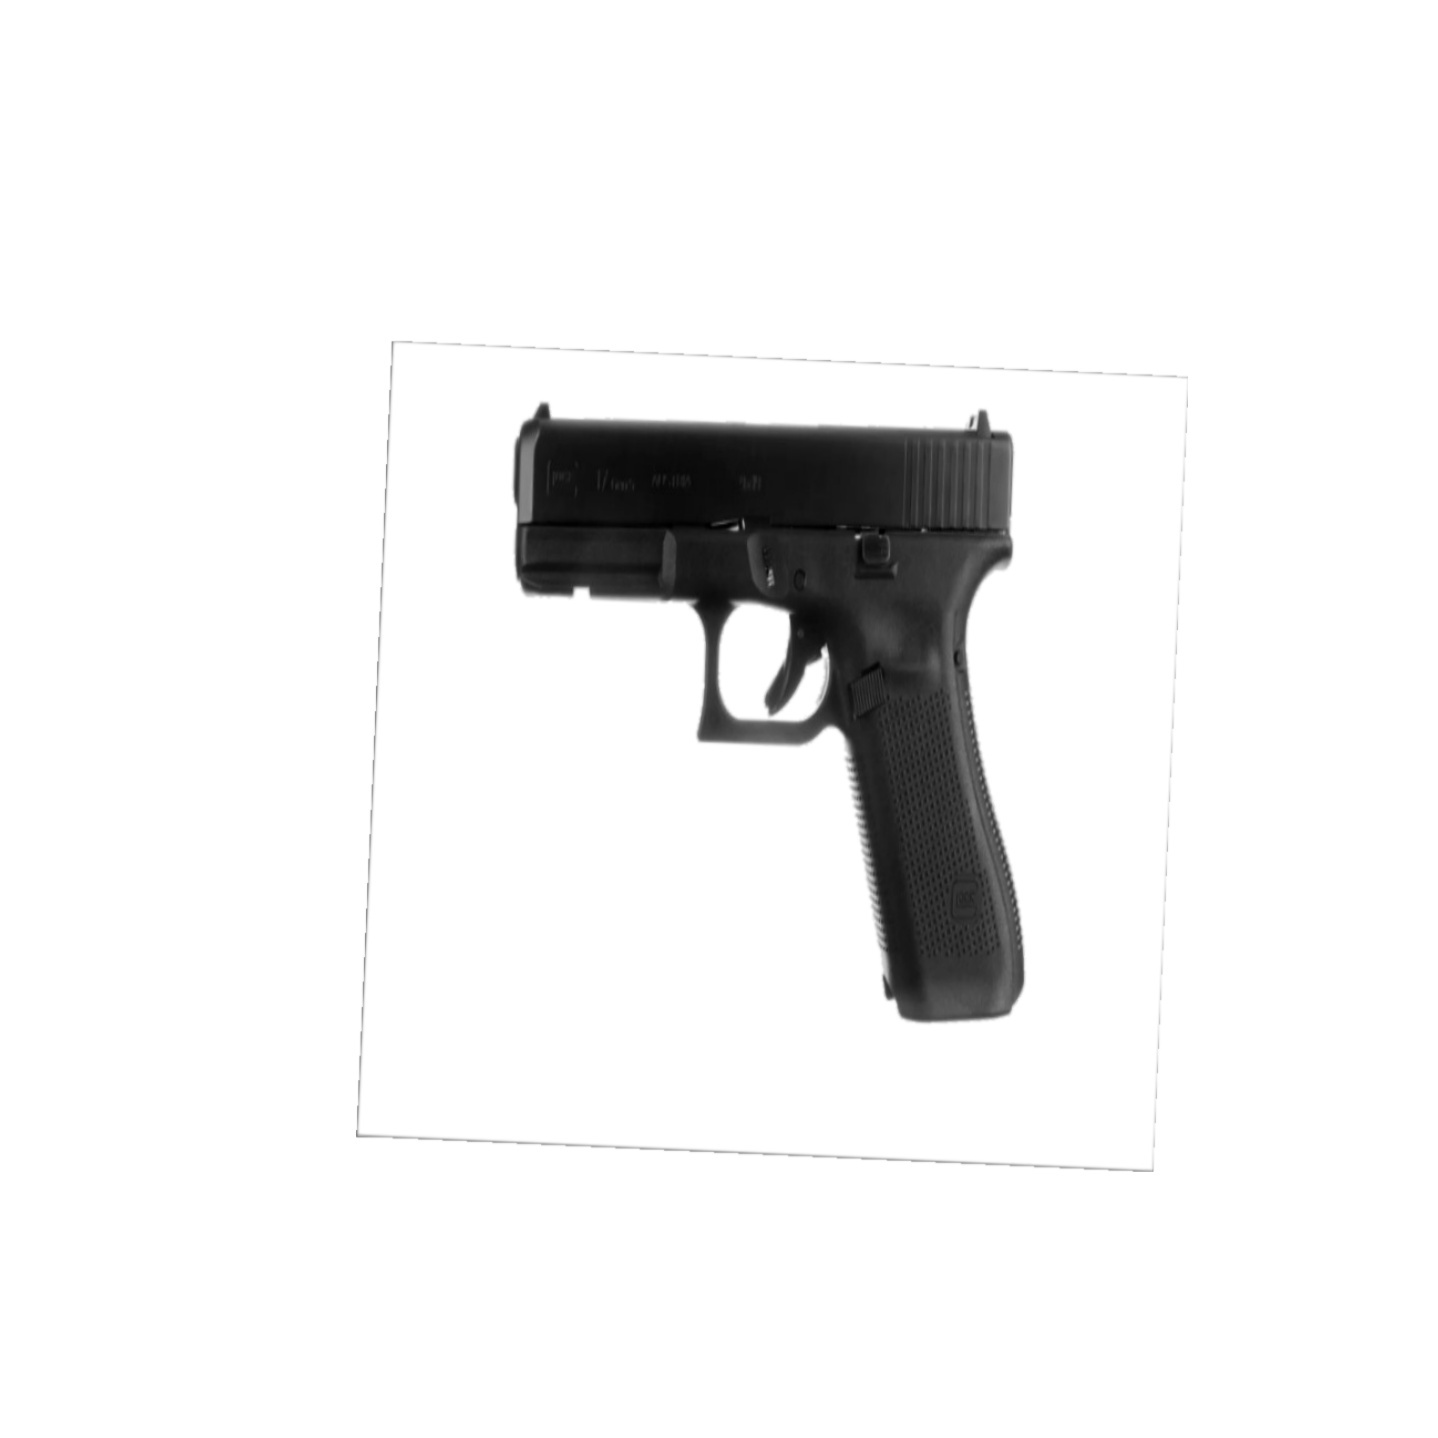gun: (502, 392, 1063, 1036)
